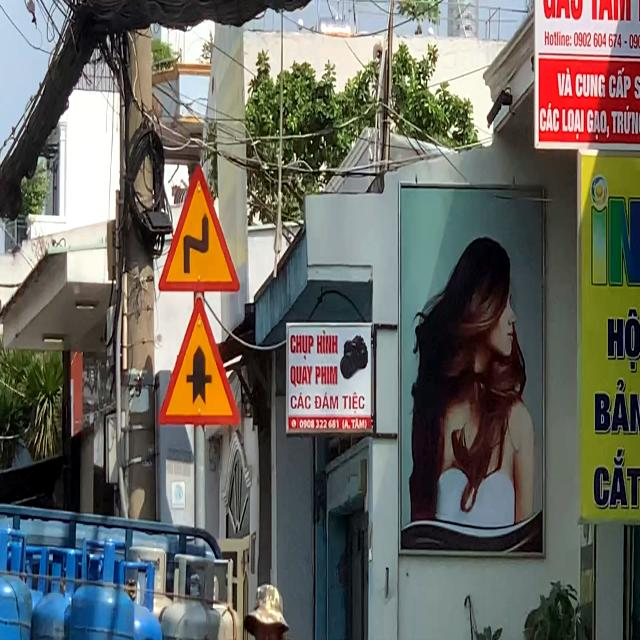W.202b: (157, 163, 242, 294)
W.207a: (157, 295, 242, 427)
